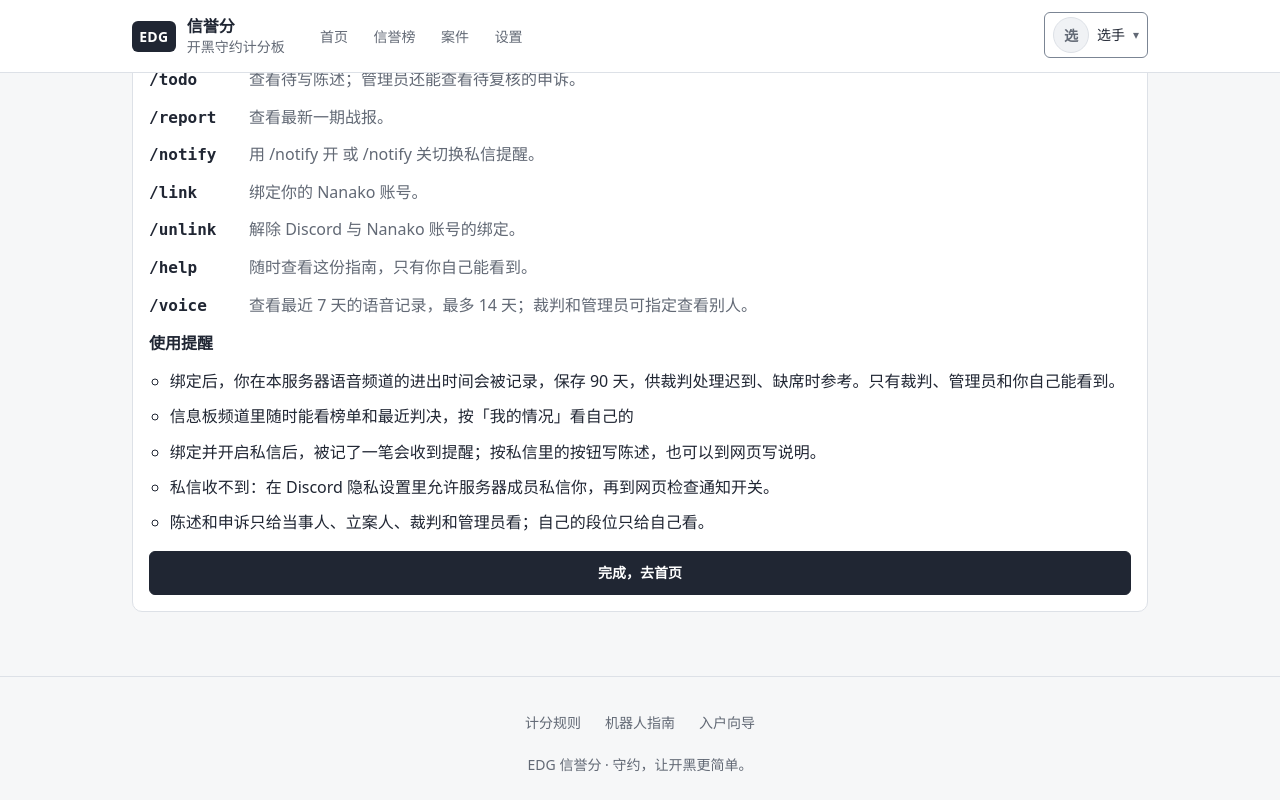
Scenario: 登录回跳 — back from the login page › keeps the login return ahead of the original non-home page after welcome
(page scrolled)
Click the button "完成，去首页".
click(640, 573)  # box 149,551 -> 1131,595
(page scrolled)
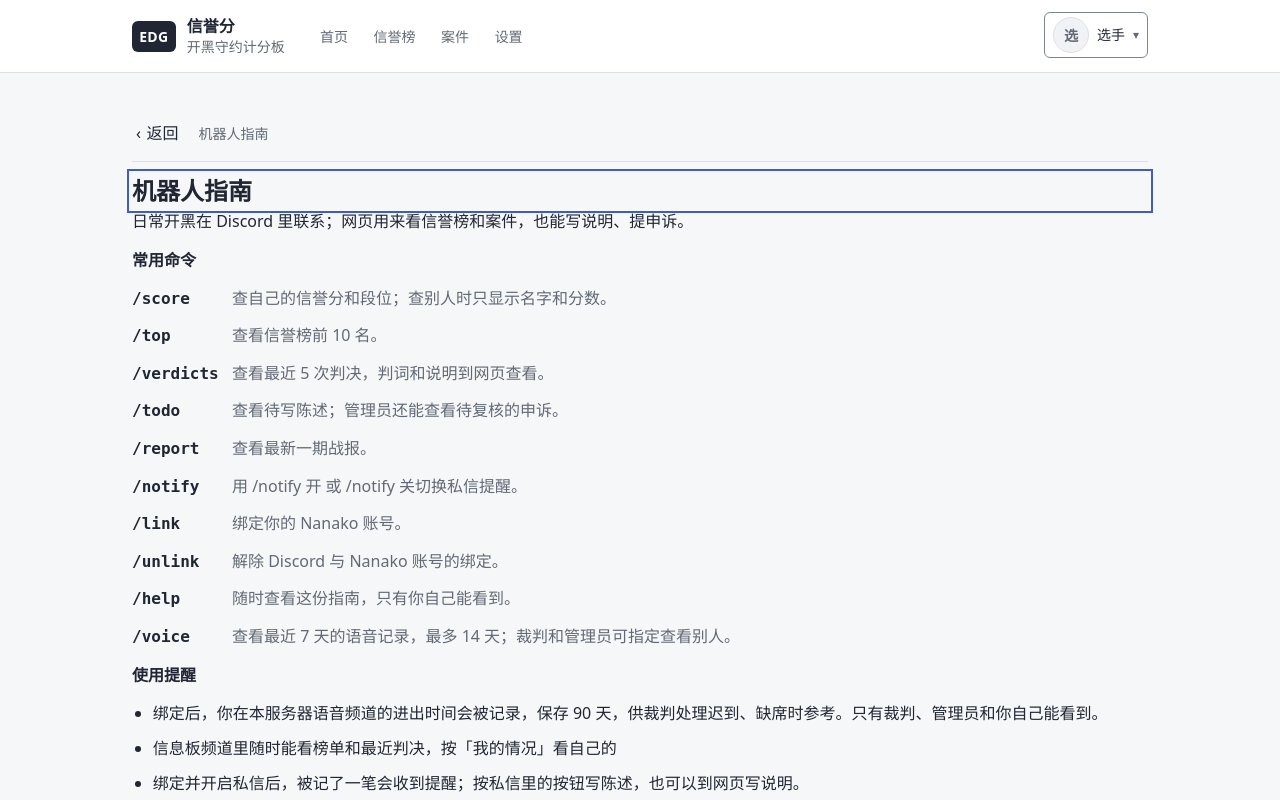
Now the heading "机器人指南" is shown, box 132,174 -> 252,207
